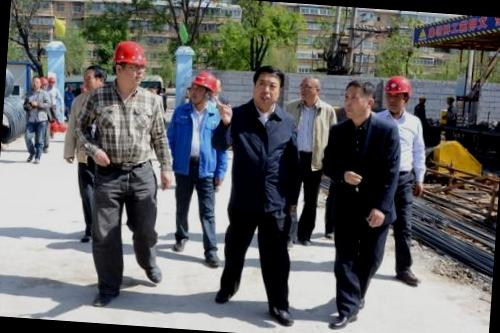no_helmet: (247, 61, 286, 113), (341, 74, 374, 124), (298, 69, 324, 107), (80, 63, 108, 96), (30, 74, 44, 92)
